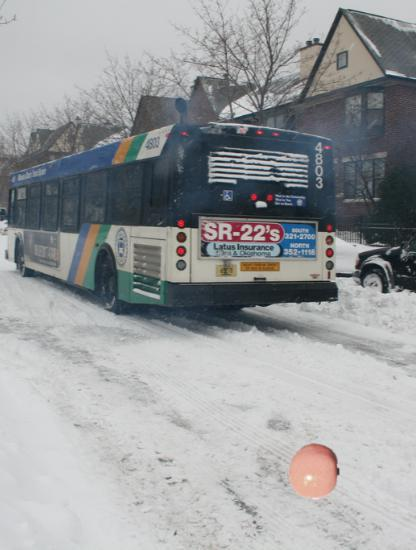Clementine: (286, 443, 343, 500)
